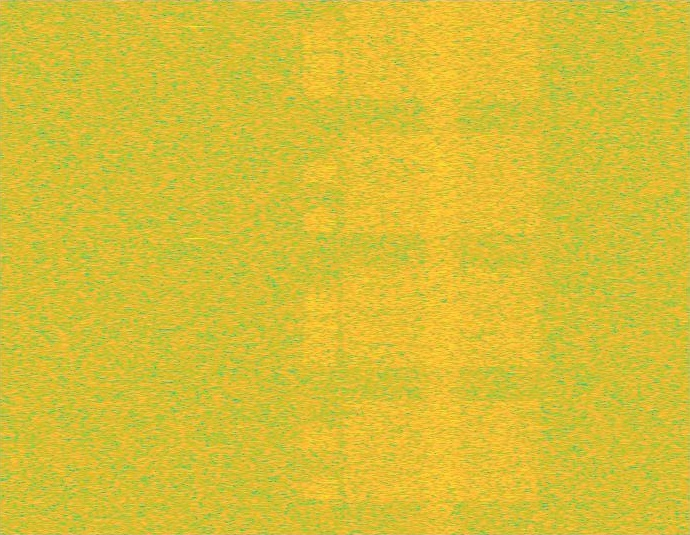5G: (338, 0, 545, 534)
DSSS: (418, 0, 465, 534)
LTE: (303, 0, 338, 534)
Radar: (189, 0, 202, 534)
